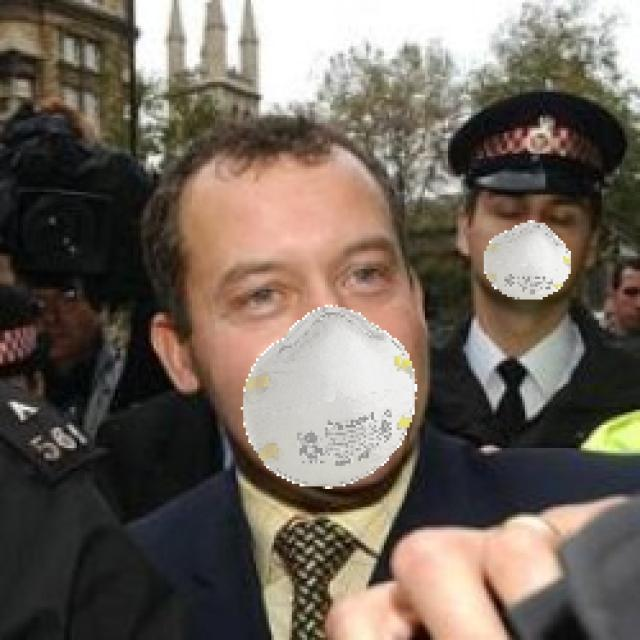mask: (171, 297, 454, 489), (471, 199, 574, 312)
